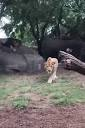lion: (43, 56, 58, 84)
